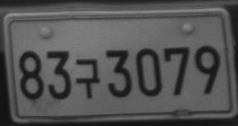0: (135, 47, 163, 96)
3: (45, 50, 72, 100), (105, 49, 132, 98)
7: (163, 45, 190, 96)
8: (17, 49, 44, 101)
9: (193, 44, 221, 95)
구: (75, 57, 101, 99)
